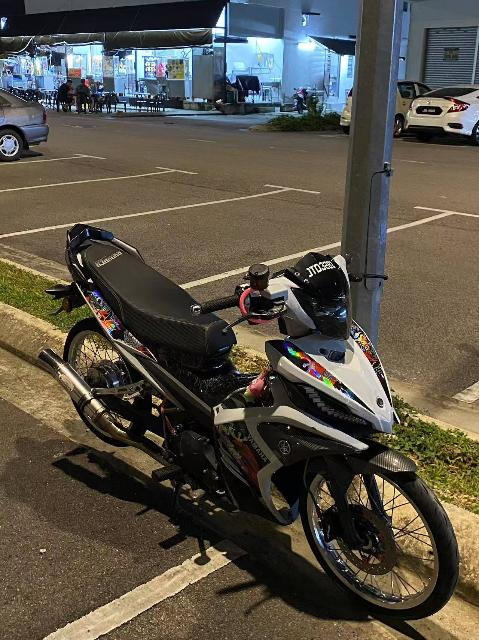License_Plate: (298, 258, 349, 280)
motorcycle: (39, 223, 463, 621), (294, 87, 311, 115)
